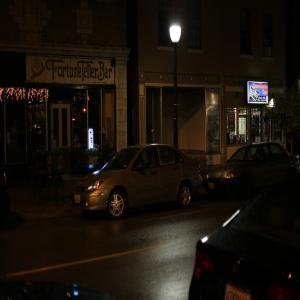Vehicle-registration-plate: (225, 286, 252, 300), (75, 194, 82, 208)
